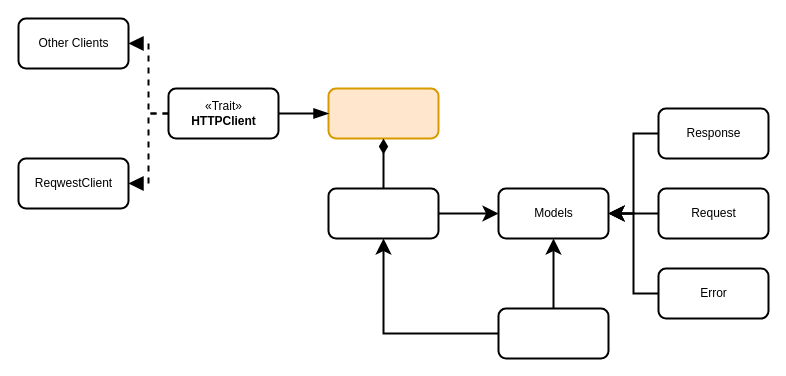
Image size: 786x376. Some labels were removed from this diagram. Here are the shapes that lost their labels. From the top down, the centre of each, then its label:
At point 383,113: "PaystackClient".
At point 383,213: "APIEnpoints".
At point 553,333: "Macros".
